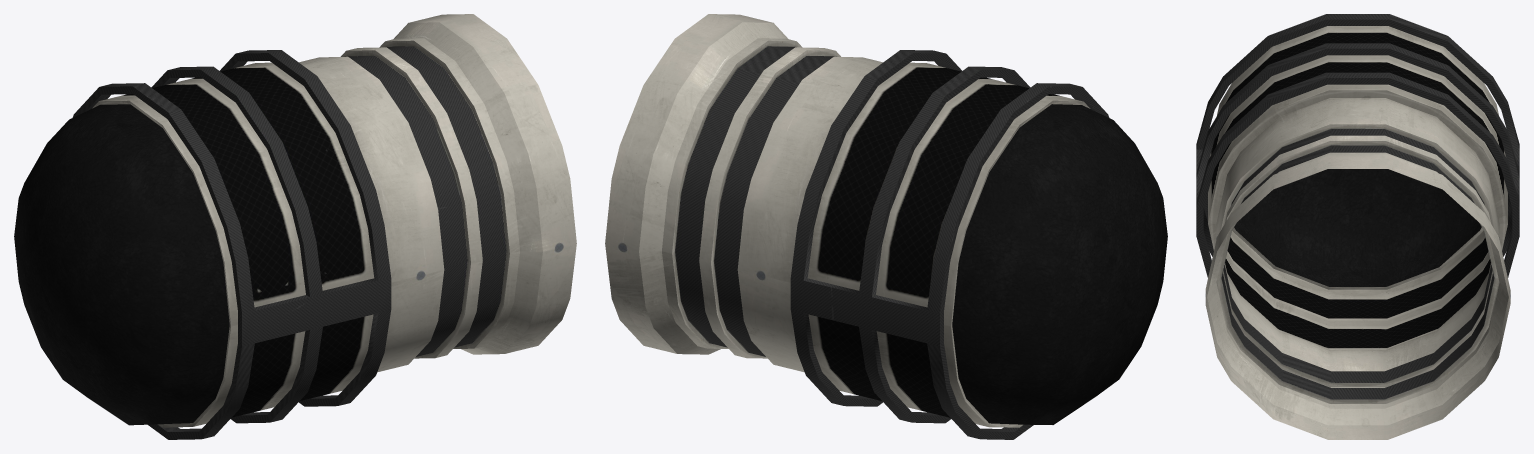
The model's file is pommel_1_c_d.glb.
The picture shows the model from 3 angles, left to right: view 1: azimuth 30°, elevation 25°; view 2: azimuth 150°, elevation 25°; view 3: azimuth 270°, elevation 25°; orthographic projection. The views are drawn at different scales.
Visible parts, largest first — view 1: pommel_1_c_d_lod0; view 2: pommel_1_c_d_lod0; view 3: pommel_1_c_d_lod0.
Boxes of the visible parts, left/top/right/bottom form: pommel_1_c_d_lod0: left=14, top=14, right=576, bottom=439; pommel_1_c_d_lod0: left=605, top=14, right=1167, bottom=439; pommel_1_c_d_lod0: left=1196, top=14, right=1519, bottom=439.
Size of what is drawn, in the model's own units: 0.0457 by 0.0324 by 0.0328.
Materials: 1 (1 with a texture image).
